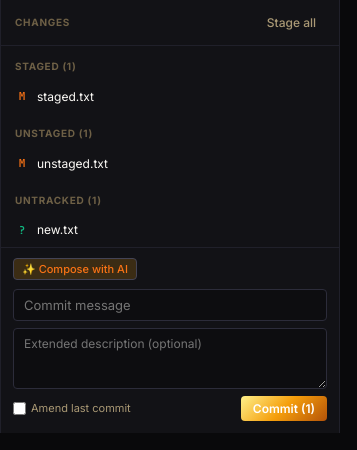
Test: StagingPanel › AI Compose › composes commit message from staged diff
Click the button "✨ Compose with AI" at coordinates (75, 269), box top-left (13, 258), bottom-right (137, 280)
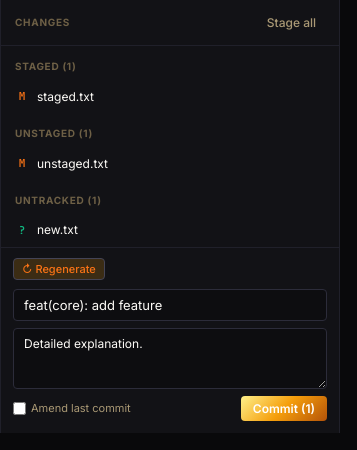
Check: the field with placeholder "Commit message" holds "feat(core): add feature", box top-left (13, 289), bottom-right (327, 321)
Check: the text box with placeholder "Extended description (optional)" holds "Detailed explanation.", box top-left (13, 328), bottom-right (327, 389)
